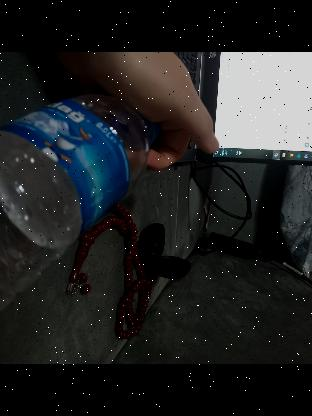Plastic Bottle: (0, 84, 166, 363)
